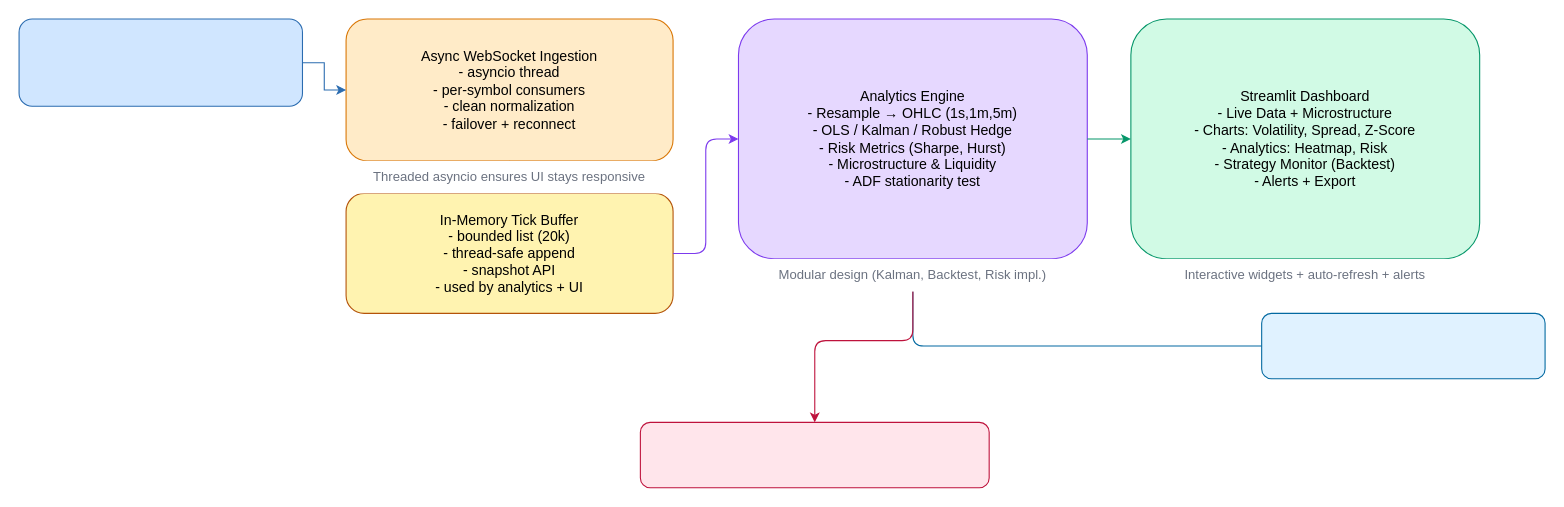
The diagram is 1564 pixels wide and 507 high, and some of its shapes have lost their labels. Each missing label, with the box of its shape:
Binance Futures WebSocket (Tick Data: timestamp, price, qty, symbol): (18, 18, 302, 106)
Optional: DB / Storage Layer (SQLite / Parquet / ClickHouse): (639, 421, 989, 488)
Uploaded CSV (offline OHLC): (1261, 312, 1545, 379)
